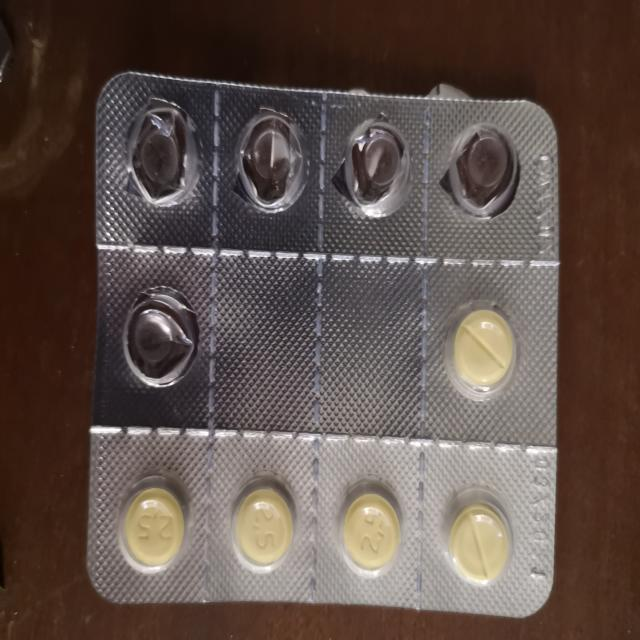Empty: (442, 118, 534, 222), (113, 280, 193, 396), (229, 108, 305, 217), (120, 99, 194, 209), (336, 120, 406, 222)
Pill: (108, 468, 198, 580), (216, 469, 302, 583), (439, 490, 519, 598), (440, 304, 520, 404), (332, 480, 403, 587)
